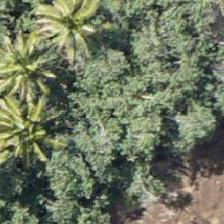coconut_tree: (0, 14, 63, 104), (37, 0, 127, 59), (0, 90, 50, 180)
